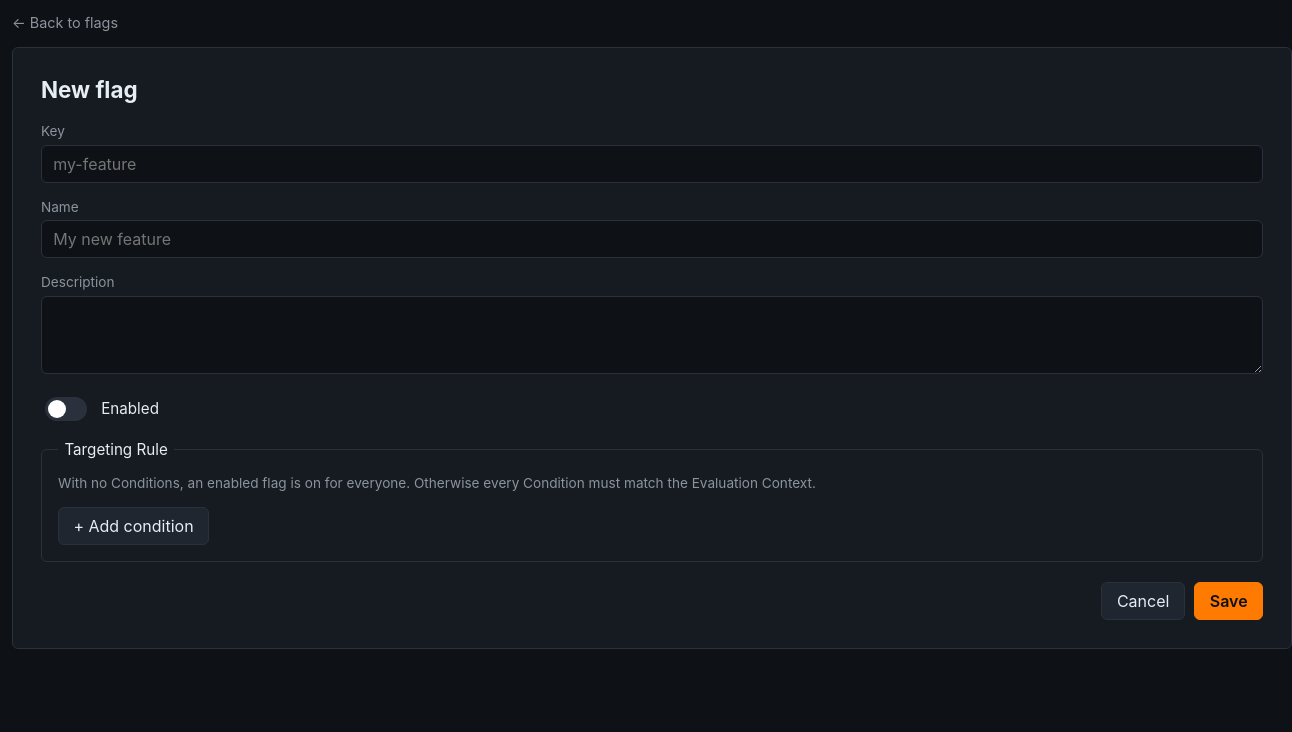
Scenario: FlagFormComponent › create mode › shows a key pattern error for an invalid key
Type "Invalid Key!" into the field with id "key" at (652,164), box [41,145,1263,183]
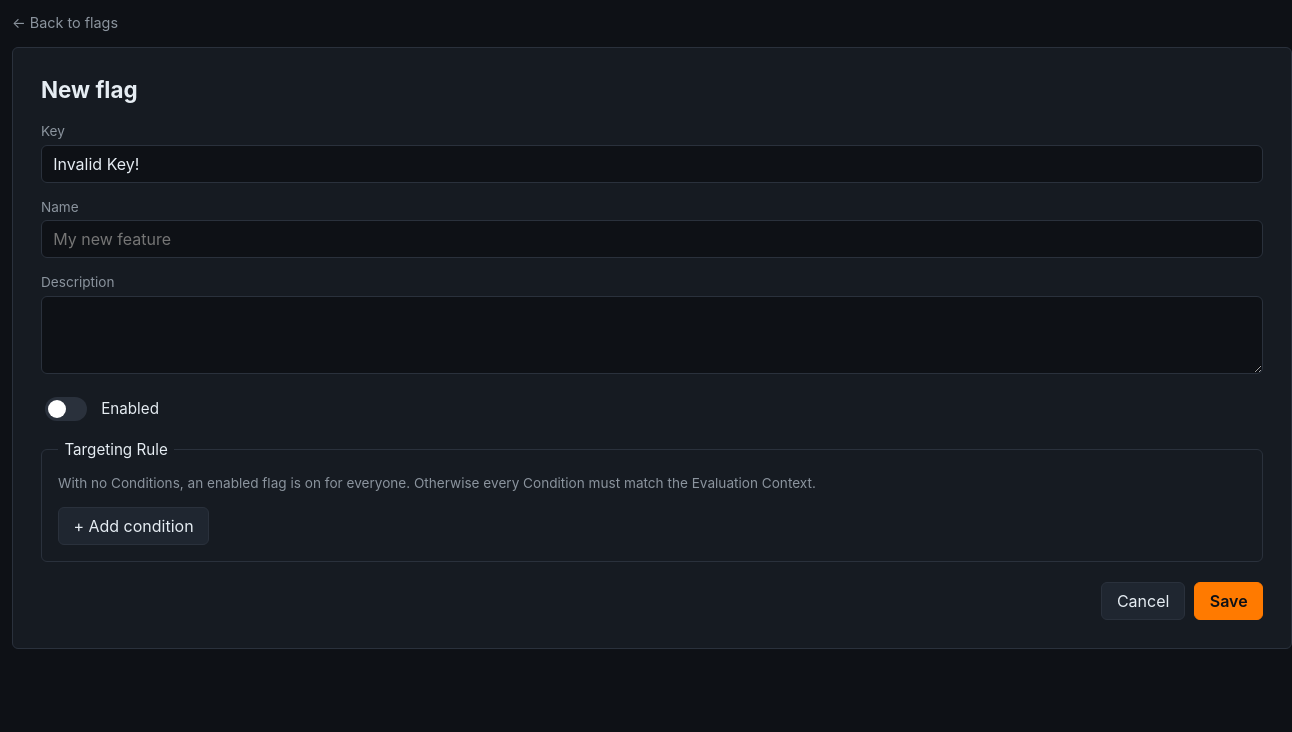
Leave the field with id "key", box [41,145,1263,183]
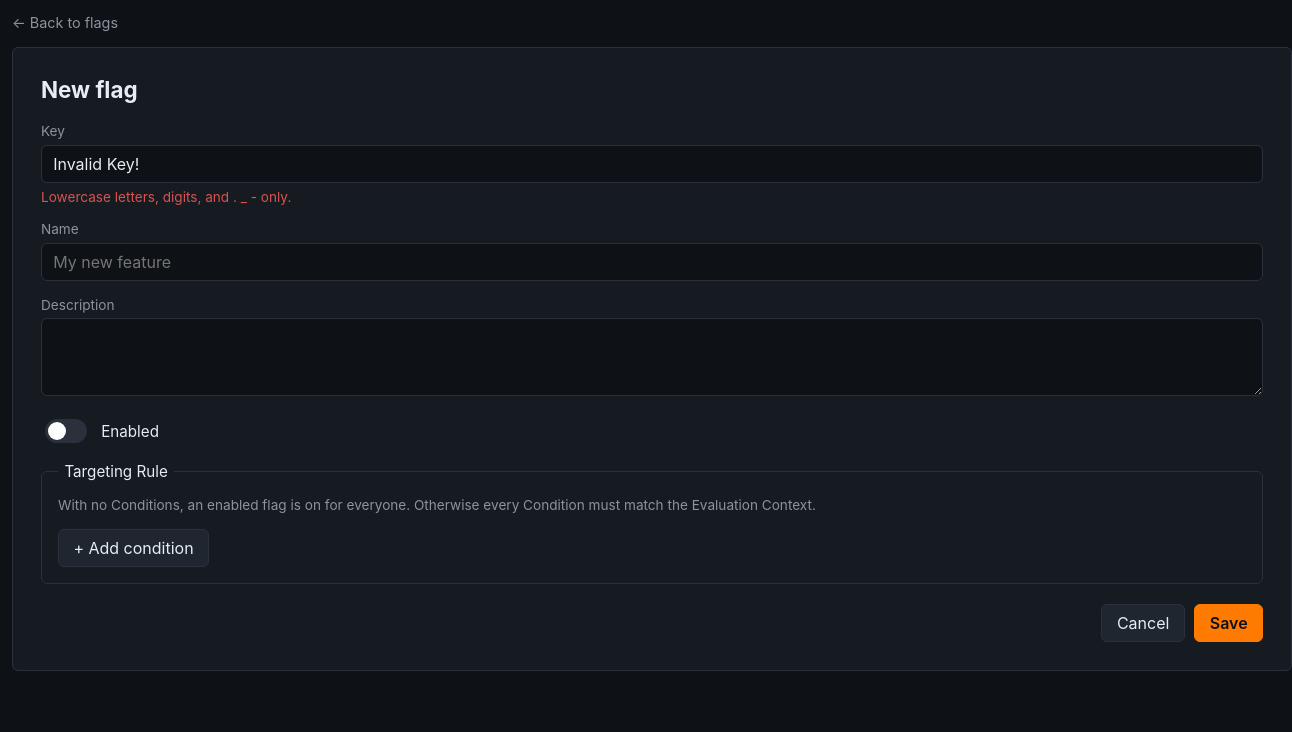
Now the text with class "error" shows "Lowercase letters", box [41,189,291,205]
